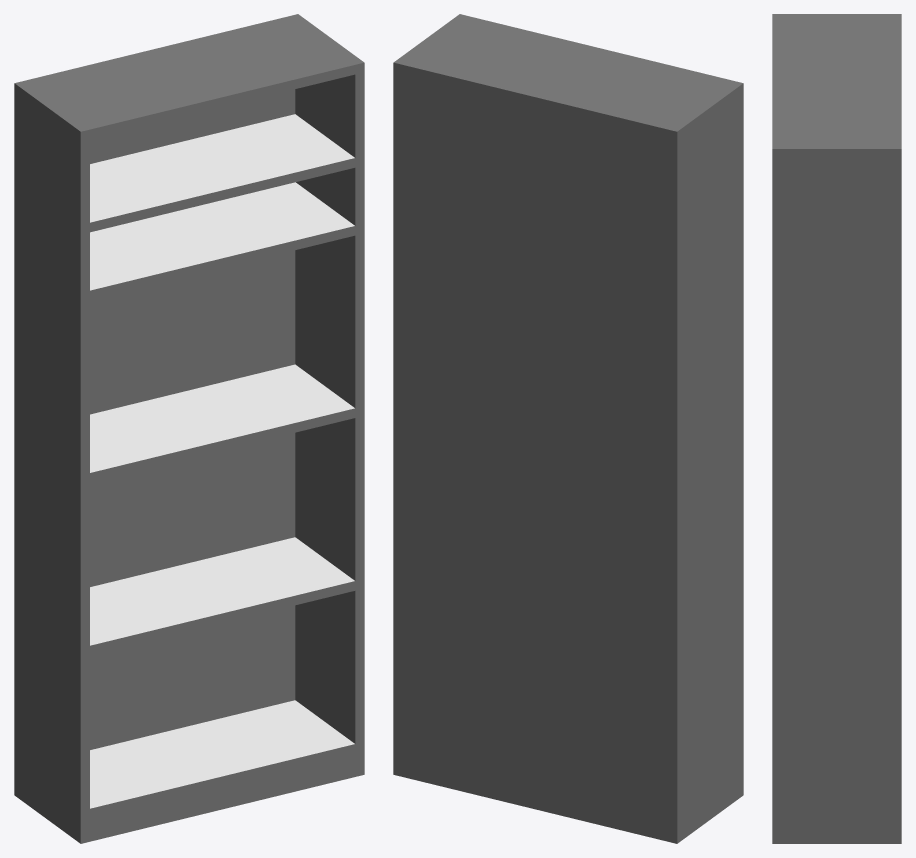
The model's file is right_shelves.min.dae.
3 renders of one model, left to right at view 1: azimuth 30°, elevation 25°; view 2: azimuth 150°, elevation 25°; view 3: azimuth 270°, elevation 25°, orthographic. The views are drawn at different scales.
Parts seen in each view (by area): view 1: SketchUp (×11); view 2: SketchUp; view 3: SketchUp.
Boxes of the visible parts, x1=… form: SketchUp (×11): x1=14, y1=14, x2=364, y2=843; SketchUp: x1=393, y1=14, x2=743, y2=843; SketchUp: x1=772, y1=14, x2=901, y2=843.
Size of the model in its own units: 30.12 by 12.2 by 72.24.
Materials: 2 (1 with a texture image).
